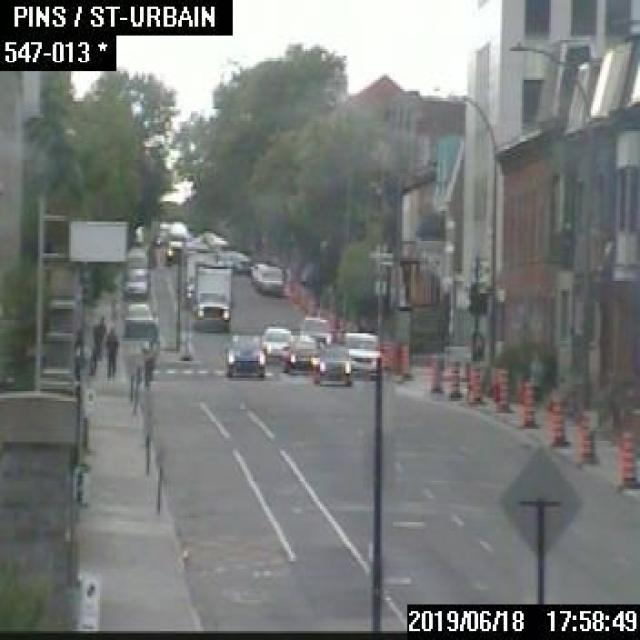construction: (616, 426, 638, 484), (576, 409, 598, 462), (491, 362, 509, 409), (549, 396, 566, 444), (520, 380, 536, 427), (381, 337, 399, 373), (469, 363, 481, 403), (449, 359, 461, 398), (429, 355, 442, 390), (399, 343, 410, 377)
pedestrian: (142, 333, 157, 389), (104, 323, 118, 376), (92, 312, 104, 356)
vehicle: (192, 262, 232, 329), (219, 332, 264, 378), (182, 248, 217, 304), (342, 330, 378, 374), (315, 341, 351, 384), (282, 333, 319, 372), (258, 322, 291, 364), (121, 302, 151, 336), (164, 218, 186, 264), (299, 315, 332, 344), (125, 265, 149, 301), (256, 264, 283, 294), (249, 262, 266, 282), (235, 254, 251, 270)
